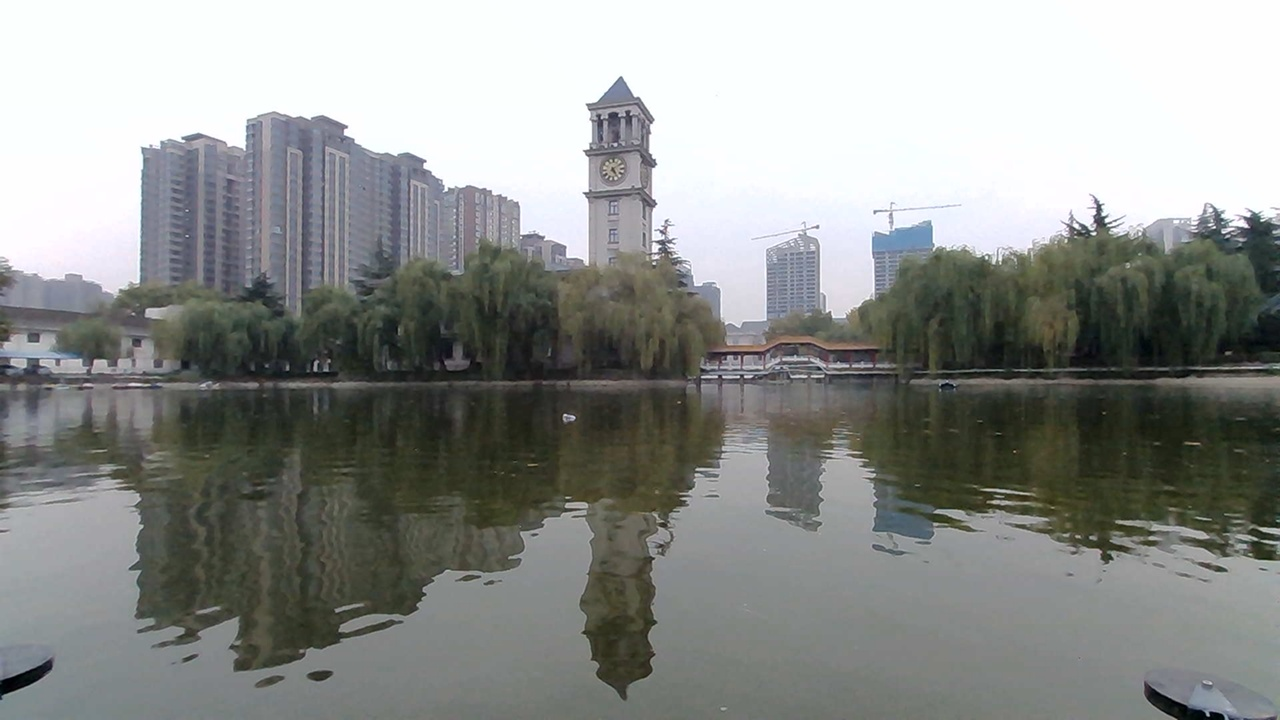bottle: (555, 399, 588, 424)
